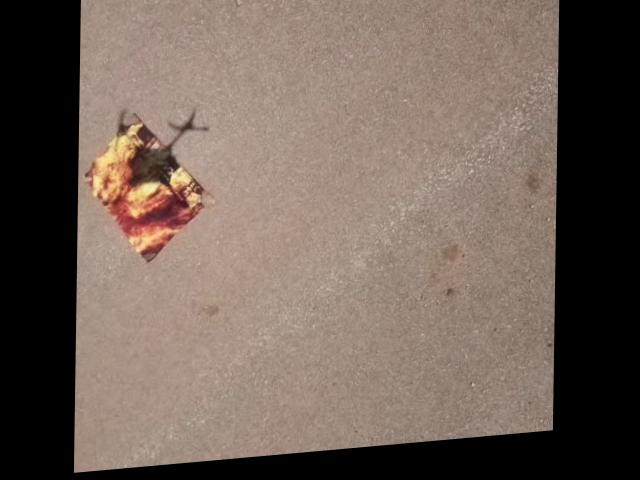fire-poster: (82, 110, 216, 271)
